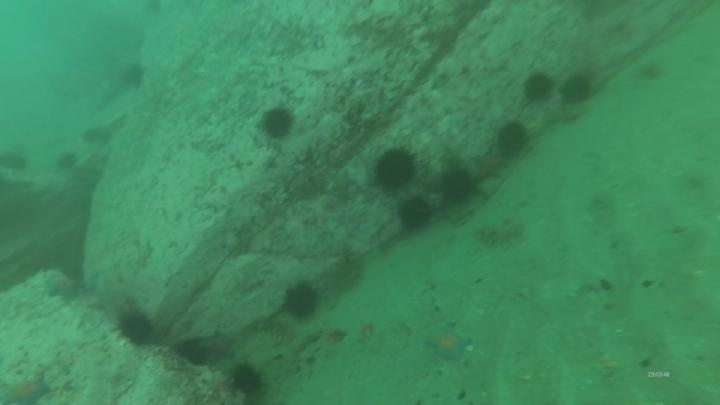echinus: (372, 146, 418, 191), (281, 280, 322, 321), (328, 252, 367, 295), (115, 308, 156, 347), (439, 166, 478, 205), (228, 362, 268, 399), (396, 195, 434, 233), (494, 120, 531, 158), (259, 105, 296, 141), (558, 72, 595, 107), (174, 336, 212, 368), (521, 70, 555, 104), (118, 61, 148, 92), (0, 148, 30, 175), (81, 124, 114, 148), (635, 59, 665, 84), (54, 150, 80, 173)
holothurian: (472, 216, 527, 249)
starfish: (424, 326, 473, 363), (1, 372, 52, 405), (198, 330, 240, 364), (41, 270, 84, 303), (472, 148, 509, 181)
